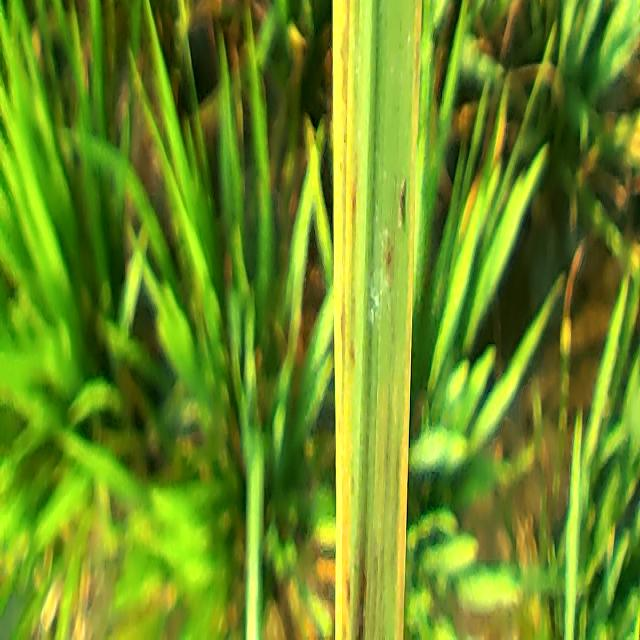NBS: (351, 517, 369, 638), (338, 287, 348, 358), (383, 237, 397, 285), (347, 177, 360, 224), (347, 329, 358, 373), (347, 466, 357, 502), (345, 569, 351, 607)
